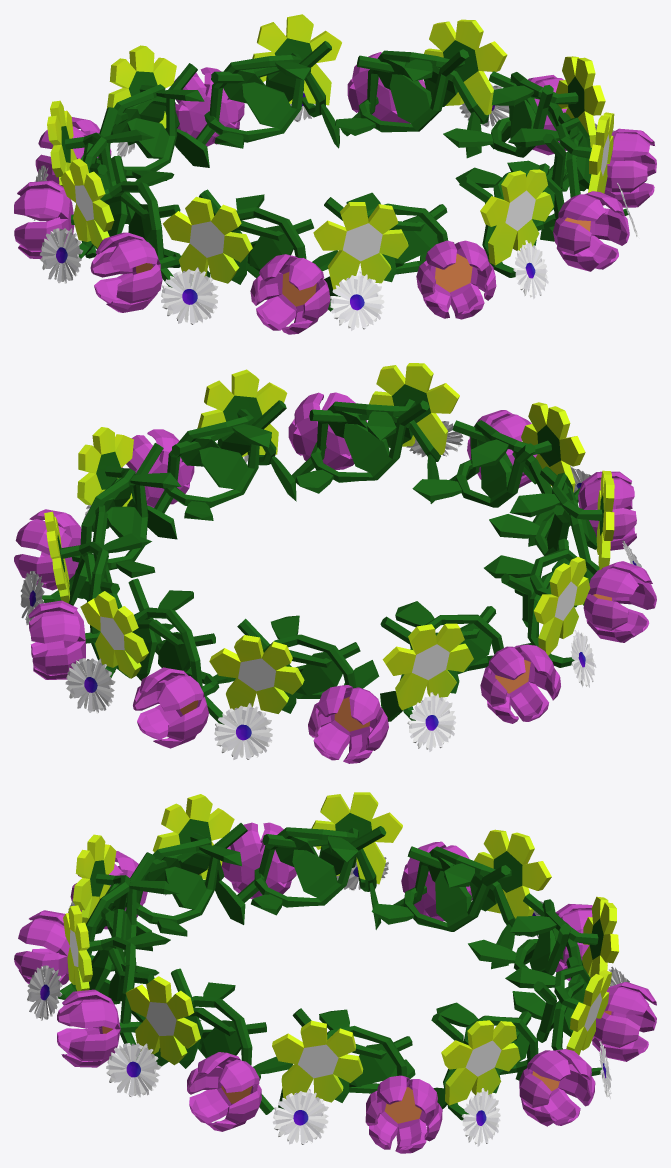
Rendered from flowercrown.fbx.
The picture shows the model from 3 angles, top to bottom: view 1: azimuth 30°, elevation 25°; view 2: azimuth 150°, elevation 25°; view 3: azimuth 270°, elevation 25°; orthographic projection.
Visible parts, largest first — view 1: flowercrown; view 2: flowercrown; view 3: flowercrown.
Part boxes in pixels (x1,y1,x2,y2): flowercrown: [14, 14, 656, 334]; flowercrown: [14, 363, 656, 763]; flowercrown: [14, 792, 656, 1153].
Bounding box in the file's own units: 29.14 × 8.57 × 30.38.
